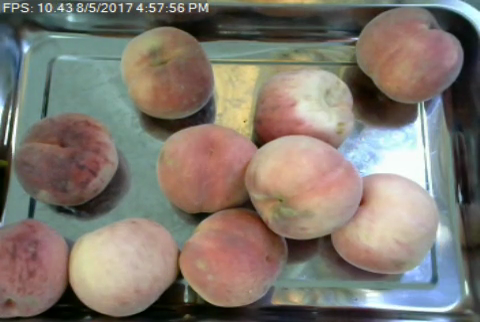Peach: (246, 136, 360, 239), (69, 217, 176, 317), (353, 8, 464, 103), (331, 172, 436, 272), (180, 208, 286, 307), (13, 113, 119, 206), (120, 26, 215, 119), (156, 122, 252, 214), (255, 68, 354, 147)
